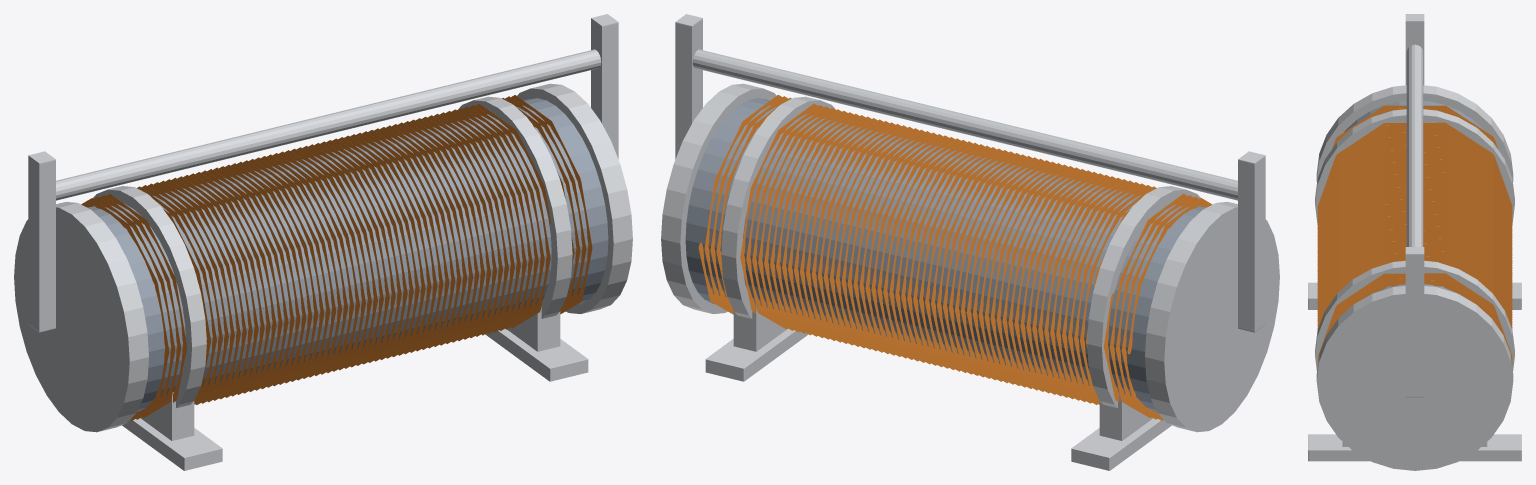
The model's file is rheostat.glb.
3 renders of one model, left to right at view 1: azimuth 30°, elevation 25°; view 2: azimuth 150°, elevation 25°; view 3: azimuth 270°, elevation 25°, orthographic. The views are drawn at different scales.
Visible parts, largest first — view 1: winding, tube, endcapL, rail, endcapR, clampL, clampR, railpostL, railpostR, footR, footL, legL (+1 smaller); view 2: winding, tube, endcapL, rail, endcapR, clampR, clampL, railpostL, railpostR, footR, footL, legR (+1 smaller); view 3: winding, endcapR, rail, endcapL, railpostR, clampL, clampR, footR, railpostL, tube, footL.
Part boxes in pixels (left/top/right/bottom): winding: left=81, top=95, right=592, bottom=421; tube: left=87, top=98, right=608, bottom=411; endcapL: left=14, top=201, right=148, bottom=432; rail: left=56, top=49, right=601, bottom=200; endcapR: left=517, top=83, right=632, bottom=313; clampL: left=92, top=186, right=206, bottom=408; clampR: left=458, top=96, right=572, bottom=318; railpostL: left=28, top=151, right=55, bottom=332; railpostR: left=591, top=14, right=618, bottom=159; footR: left=485, top=329, right=588, bottom=381; footL: left=122, top=418, right=222, bottom=470; legL: left=140, top=392, right=194, bottom=440; winding: left=698, top=94, right=1212, bottom=420; tube: left=685, top=98, right=1206, bottom=411; endcapL: left=1145, top=201, right=1279, bottom=432; rail: left=692, top=49, right=1237, bottom=200; endcapR: left=661, top=83, right=776, bottom=313; clampR: left=721, top=96, right=836, bottom=318; clampL: left=1087, top=186, right=1200, bottom=408; railpostL: left=1238, top=151, right=1265, bottom=332; railpostR: left=675, top=14, right=702, bottom=159; footR: left=705, top=328, right=808, bottom=381; footL: left=1071, top=418, right=1171, bottom=470; legR: left=733, top=303, right=786, bottom=351; winding: left=1317, top=105, right=1512, bottom=365; endcapR: left=1316, top=286, right=1513, bottom=470; rail: left=1406, top=44, right=1423, bottom=246; endcapL: left=1316, top=85, right=1513, bottom=181; railpostR: left=1405, top=247, right=1424, bottom=397; clampL: left=1315, top=109, right=1514, bottom=224; clampR: left=1315, top=260, right=1514, bottom=370; footR: left=1308, top=434, right=1521, bottom=461; railpostL: left=1405, top=14, right=1424, bottom=85; tube: left=1344, top=101, right=1484, bottom=300; footL: left=1308, top=282, right=1521, bottom=309.
Bounding box in the file's own units: 1.65 × 0.78 × 0.62.
